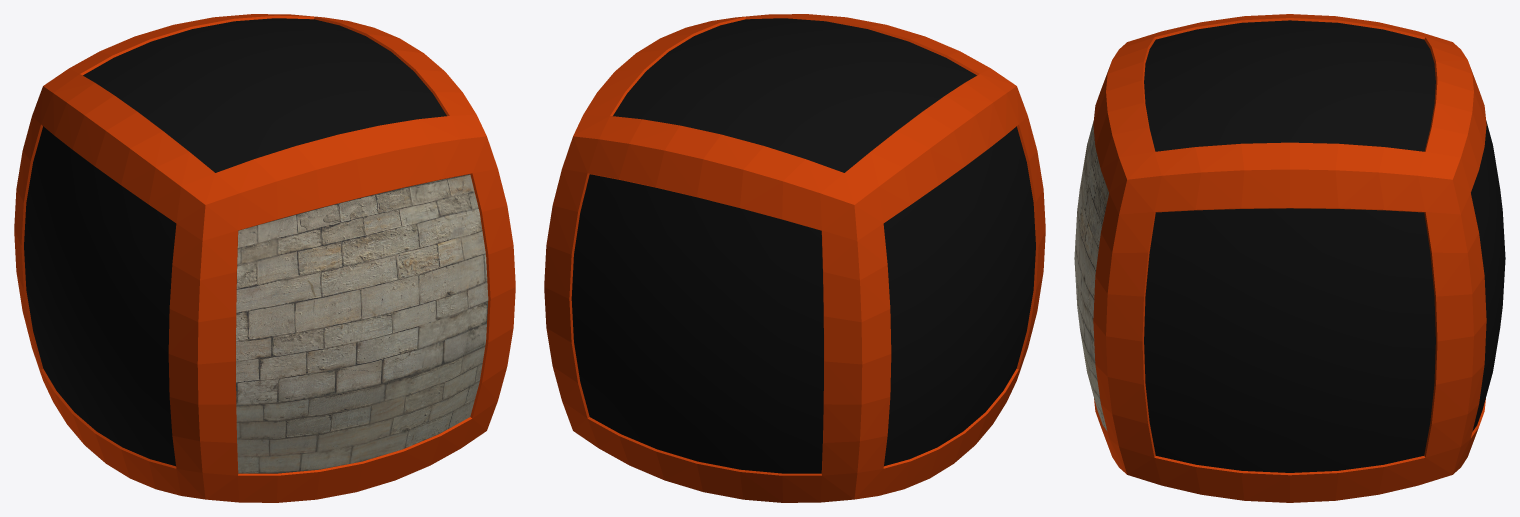
File: standard2.obj
The picture shows the model from 3 angles, left to right: view 1: azimuth 30°, elevation 25°; view 2: azimuth 150°, elevation 25°; view 3: azimuth 270°, elevation 25°; orthographic projection.
Parts seen in each view (by area): view 1: Outter, Inner, Inner.001; view 2: Inner, Outter; view 3: Inner, Outter, Inner.001.
Boxes of the visible parts, x1,y1,x2,y2 form: Outter: (14,14,515,502); Inner: (24,18,446,466); Inner.001: (236,174,488,473); Inner: (571,18,1035,473); Outter: (544,14,1045,502); Inner: (1144,20,1505,472); Outter: (1093,14,1486,502); Inner.001: (1074,121,1108,431).
Size of the model in its own units: 3.05 by 3.05 by 3.05.
